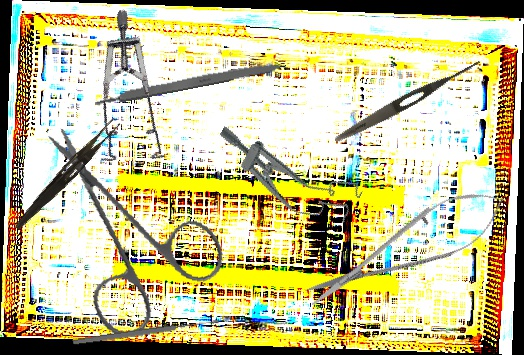Dressing Forceps: (332, 53, 485, 147), (12, 113, 122, 236)
Iris Scissors: (16, 126, 242, 350)
Micro Scissor: (295, 173, 517, 324)
Scalpel Handle: (93, 57, 287, 108)
Speculum: (53, 7, 217, 185), (204, 116, 365, 236)
Surgical Spoon: (71, 317, 221, 347)
